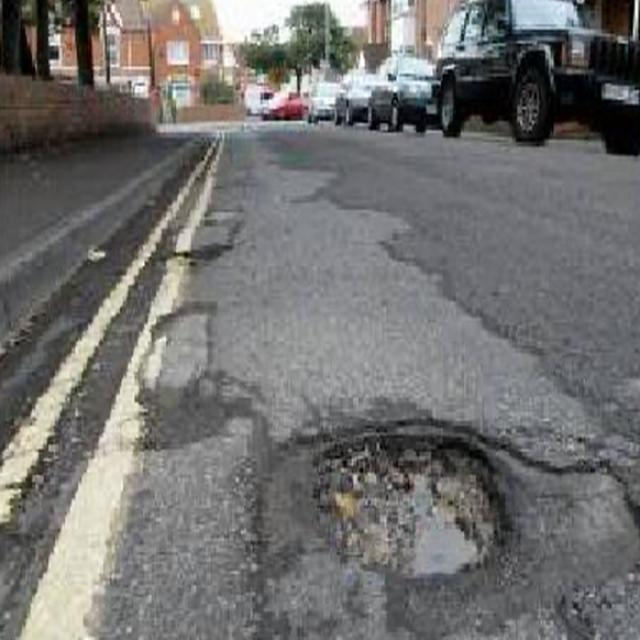Lubang: (313, 425, 504, 581)
